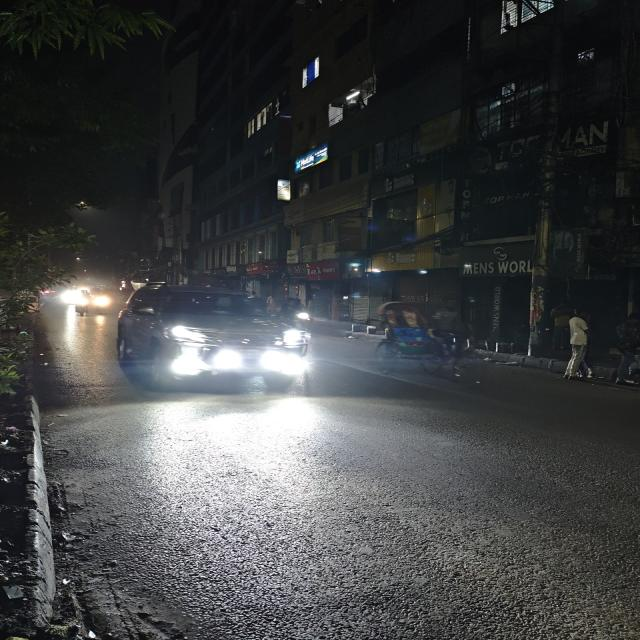car: (117, 284, 311, 402)
motorcycle: (276, 289, 318, 332), (67, 292, 95, 321)
pedestrian: (562, 302, 592, 384)
rickshaw: (351, 300, 476, 380)
